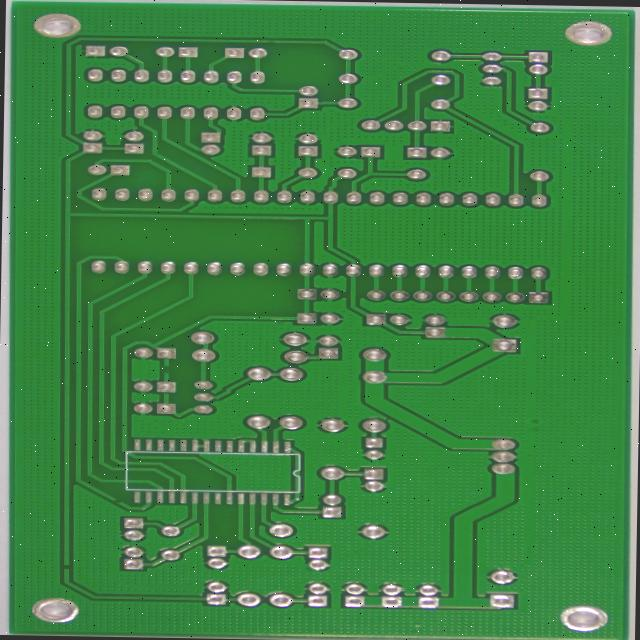open_circuit: (52, 345, 71, 358), (0, 485, 9, 495)
